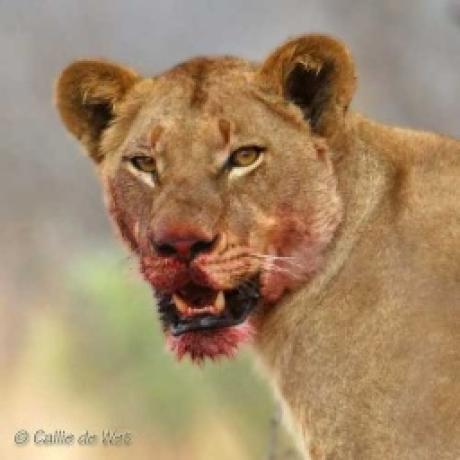Lion: (55, 32, 460, 459)
